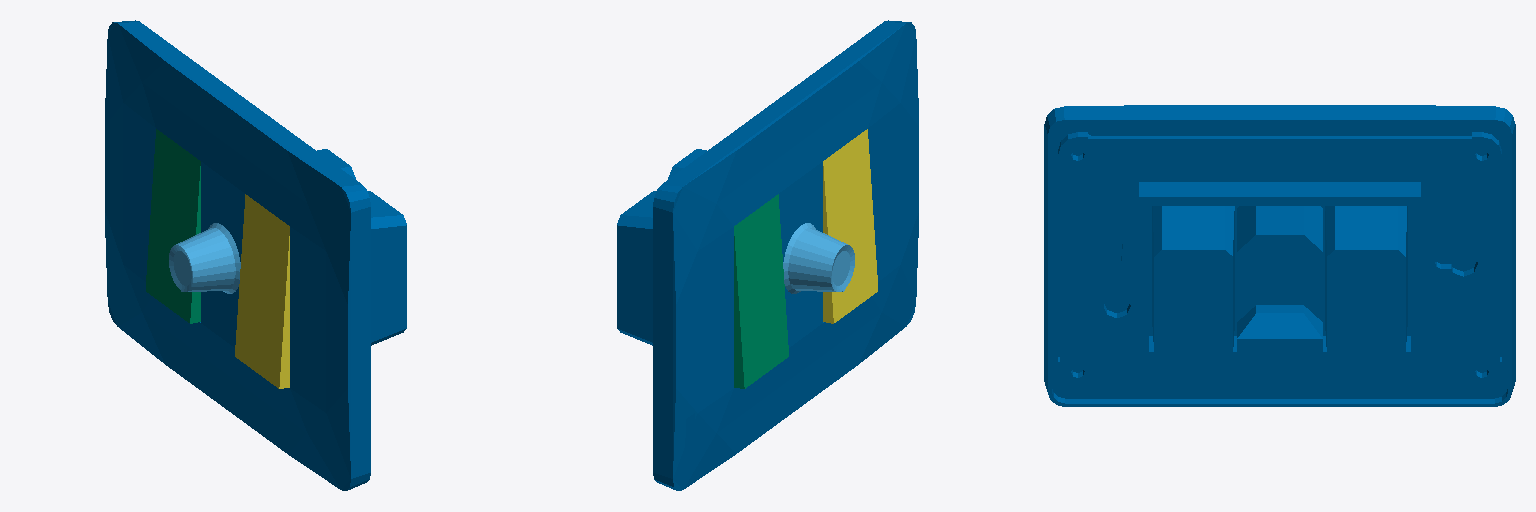
robot.urdf — partnet_05449c4f-8af8-4fe5-bcd9-423bf1e982b6:
<?xml version="1.0" ?>
<robot name="partnet_05449c4f-8af8-4fe5-bcd9-423bf1e982b6">
	<link name="base"/>
	<link name="link_0">
		<visual name="switch-1">
			<origin xyz="0 0 0"/>
			<geometry>
				<mesh filename="textured_objs/original-30.obj"/>
			</geometry>
		</visual>
		<collision>
			<origin xyz="0 0 0"/>
			<geometry>
				<mesh filename="textured_objs/original-30.obj"/>
			</geometry>
		</collision>
	</link>
	<joint name="joint_0" type="continuous">
		<origin xyz="0 0 0"/>
		<axis xyz="0 0 1"/>
		<child link="link_0"/>
		<parent link="link_3"/>
	</joint>
	<link name="link_1">
		<visual name="switch-2">
			<origin xyz="0.46418500000000007 0.005099191978710449 -0.14107846118917522"/>
			<geometry>
				<mesh filename="textured_objs/original-35.obj"/>
			</geometry>
		</visual>
		<visual name="switch-2">
			<origin xyz="0.46418500000000007 0.005099191978710449 -0.14107846118917522"/>
			<geometry>
				<mesh filename="textured_objs/original-41.obj"/>
			</geometry>
		</visual>
		<visual name="switch-2">
			<origin xyz="0.46418500000000007 0.005099191978710449 -0.14107846118917522"/>
			<geometry>
				<mesh filename="textured_objs/original-36.obj"/>
			</geometry>
		</visual>
		<visual name="switch-2">
			<origin xyz="0.46418500000000007 0.005099191978710449 -0.14107846118917522"/>
			<geometry>
				<mesh filename="textured_objs/original-38.obj"/>
			</geometry>
		</visual>
		<collision>
			<origin xyz="0.46418500000000007 0.005099191978710449 -0.14107846118917522"/>
			<geometry>
				<mesh filename="textured_objs/original-35.obj"/>
			</geometry>
		</collision>
		<collision>
			<origin xyz="0.46418500000000007 0.005099191978710449 -0.14107846118917522"/>
			<geometry>
				<mesh filename="textured_objs/original-41.obj"/>
			</geometry>
		</collision>
		<collision>
			<origin xyz="0.46418500000000007 0.005099191978710449 -0.14107846118917522"/>
			<geometry>
				<mesh filename="textured_objs/original-36.obj"/>
			</geometry>
		</collision>
		<collision>
			<origin xyz="0.46418500000000007 0.005099191978710449 -0.14107846118917522"/>
			<geometry>
				<mesh filename="textured_objs/original-38.obj"/>
			</geometry>
		</collision>
	</link>
	<joint name="joint_1" type="revolute">
		<origin xyz="-0.46418500000000007 -0.005099191978710449 0.14107846118917522"/>
		<axis xyz="1 0 0"/>
		<child link="link_1"/>
		<parent link="link_3"/>
		<limit lower="0.0" upper="0.16964600329384885"/>
	</joint>
	<link name="link_2">
		<visual name="switch-3">
			<origin xyz="0.46418500000000007 0.005099191978710449 -0.14107846118917522"/>
			<geometry>
				<mesh filename="textured_objs/original-19.obj"/>
			</geometry>
		</visual>
		<visual name="switch-3">
			<origin xyz="0.46418500000000007 0.005099191978710449 -0.14107846118917522"/>
			<geometry>
				<mesh filename="textured_objs/original-28.obj"/>
			</geometry>
		</visual>
		<visual name="switch-3">
			<origin xyz="0.46418500000000007 0.005099191978710449 -0.14107846118917522"/>
			<geometry>
				<mesh filename="textured_objs/original-25.obj"/>
			</geometry>
		</visual>
		<visual name="switch-3">
			<origin xyz="0.46418500000000007 0.005099191978710449 -0.14107846118917522"/>
			<geometry>
				<mesh filename="textured_objs/original-22.obj"/>
			</geometry>
		</visual>
		<visual name="switch-3">
			<origin xyz="0.46418500000000007 0.005099191978710449 -0.14107846118917522"/>
			<geometry>
				<mesh filename="textured_objs/original-23.obj"/>
			</geometry>
		</visual>
		<visual name="switch-3">
			<origin xyz="0.46418500000000007 0.005099191978710449 -0.14107846118917522"/>
			<geometry>
				<mesh filename="textured_objs/original-24.obj"/>
			</geometry>
		</visual>
		<visual name="switch-3">
			<origin xyz="0.46418500000000007 0.005099191978710449 -0.14107846118917522"/>
			<geometry>
				<mesh filename="textured_objs/original-26.obj"/>
			</geometry>
		</visual>
		<visual name="switch-3">
			<origin xyz="0.46418500000000007 0.005099191978710449 -0.14107846118917522"/>
			<geometry>
				<mesh filename="textured_objs/original-27.obj"/>
			</geometry>
		</visual>
		<collision>
			<origin xyz="0.46418500000000007 0.005099191978710449 -0.14107846118917522"/>
			<geometry>
				<mesh filename="textured_objs/original-19.obj"/>
			</geometry>
		</collision>
		<collision>
			<origin xyz="0.46418500000000007 0.005099191978710449 -0.14107846118917522"/>
			<geometry>
				<mesh filename="textured_objs/original-28.obj"/>
			</geometry>
		</collision>
		<collision>
			<origin xyz="0.46418500000000007 0.005099191978710449 -0.14107846118917522"/>
			<geometry>
				<mesh filename="textured_objs/original-25.obj"/>
			</geometry>
		</collision>
		<collision>
			<origin xyz="0.46418500000000007 0.005099191978710449 -0.14107846118917522"/>
			<geometry>
				<mesh filename="textured_objs/original-22.obj"/>
			</geometry>
		</collision>
		<collision>
			<origin xyz="0.46418500000000007 0.005099191978710449 -0.14107846118917522"/>
			<geometry>
				<mesh filename="textured_objs/original-23.obj"/>
			</geometry>
		</collision>
		<collision>
			<origin xyz="0.46418500000000007 0.005099191978710449 -0.14107846118917522"/>
			<geometry>
				<mesh filename="textured_objs/original-24.obj"/>
			</geometry>
		</collision>
		<collision>
			<origin xyz="0.46418500000000007 0.005099191978710449 -0.14107846118917522"/>
			<geometry>
				<mesh filename="textured_objs/original-26.obj"/>
			</geometry>
		</collision>
		<collision>
			<origin xyz="0.46418500000000007 0.005099191978710449 -0.14107846118917522"/>
			<geometry>
				<mesh filename="textured_objs/original-27.obj"/>
			</geometry>
		</collision>
	</link>
	<joint name="joint_2" type="revolute">
		<origin xyz="-0.46418500000000007 -0.005099191978710449 0.14107846118917522"/>
		<axis xyz="1 0 0"/>
		<child link="link_2"/>
		<parent link="link_3"/>
		<limit lower="0.0" upper="0.16964600329384885"/>
	</joint>
	<link name="link_3">
		<visual name="base_body-4">
			<origin xyz="0 0 0"/>
			<geometry>
				<mesh filename="textured_objs/original-21.obj"/>
			</geometry>
		</visual>
		<visual name="base_body-4">
			<origin xyz="0 0 0"/>
			<geometry>
				<mesh filename="textured_objs/original-4.obj"/>
			</geometry>
		</visual>
		<visual name="base_body-4">
			<origin xyz="0 0 0"/>
			<geometry>
				<mesh filename="textured_objs/original-3.obj"/>
			</geometry>
		</visual>
		<visual name="base_body-4">
			<origin xyz="0 0 0"/>
			<geometry>
				<mesh filename="textured_objs/original-33.obj"/>
			</geometry>
		</visual>
		<visual name="base_body-4">
			<origin xyz="0 0 0"/>
			<geometry>
				<mesh filename="textured_objs/original-2.obj"/>
			</geometry>
		</visual>
		<visual name="base_body-4">
			<origin xyz="0 0 0"/>
			<geometry>
				<mesh filename="textured_objs/original-16.obj"/>
			</geometry>
		</visual>
		<visual name="base_body-4">
			<origin xyz="0 0 0"/>
			<geometry>
				<mesh filename="textured_objs/original-8.obj"/>
			</geometry>
		</visual>
		<visual name="base_body-4">
			<origin xyz="0 0 0"/>
			<geometry>
				<mesh filename="textured_objs/original-13.obj"/>
			</geometry>
		</visual>
		<visual name="base_body-4">
			<origin xyz="0 0 0"/>
			<geometry>
				<mesh filename="textured_objs/original-9.obj"/>
			</geometry>
		</visual>
		<visual name="base_body-4">
			<origin xyz="0 0 0"/>
			<geometry>
				<mesh filename="textured_objs/original-39.obj"/>
			</geometry>
		</visual>
		<visual name="base_body-4">
			<origin xyz="0 0 0"/>
			<geometry>
				<mesh filename="textured_objs/original-6.obj"/>
			</geometry>
		</visual>
		<visual name="base_body-4">
			<origin xyz="0 0 0"/>
			<geometry>
				<mesh filename="textured_objs/original-31.obj"/>
			</geometry>
		</visual>
		<visual name="base_body-4">
			<origin xyz="0 0 0"/>
			<geometry>
				<mesh filename="textured_objs/original-37.obj"/>
			</geometry>
		</visual>
		<visual name="base_body-4">
			<origin xyz="0 0 0"/>
			<geometry>
				<mesh filename="textured_objs/original-15.obj"/>
			</geometry>
		</visual>
		<visual name="base_body-4">
			<origin xyz="0 0 0"/>
			<geometry>
				<mesh filename="textured_objs/original-11.obj"/>
			</geometry>
		</visual>
		<visual name="base_body-4">
			<origin xyz="0 0 0"/>
			<geometry>
				<mesh filename="textured_objs/original-18.obj"/>
			</geometry>
		</visual>
		<visual name="base_body-4">
			<origin xyz="0 0 0"/>
			<geometry>
				<mesh filename="textured_objs/original-12.obj"/>
			</geometry>
		</visual>
		<visual name="base_body-4">
			<origin xyz="0 0 0"/>
			<geometry>
				<mesh filename="textured_objs/original-20.obj"/>
			</geometry>
		</visual>
		<visual name="base_body-4">
			<origin xyz="0 0 0"/>
			<geometry>
				<mesh filename="textured_objs/original-32.obj"/>
			</geometry>
		</visual>
		<visual name="base_body-4">
			<origin xyz="0 0 0"/>
			<geometry>
				<mesh filename="textured_objs/original-7.obj"/>
			</geometry>
		</visual>
		<visual name="base_body-4">
			<origin xyz="0 0 0"/>
			<geometry>
				<mesh filename="textured_objs/original-10.obj"/>
			</geometry>
		</visual>
		<visual name="base_body-4">
			<origin xyz="0 0 0"/>
			<geometry>
				<mesh filename="textured_objs/original-14.obj"/>
			</geometry>
		</visual>
		<visual name="base_body-4">
			<origin xyz="0 0 0"/>
			<geometry>
				<mesh filename="textured_objs/original-40.obj"/>
			</geometry>
		</visual>
		<collision>
			<origin xyz="0 0 0"/>
			<geometry>
				<mesh filename="textured_objs/original-21.obj"/>
			</geometry>
		</collision>
		<collision>
			<origin xyz="0 0 0"/>
			<geometry>
				<mesh filename="textured_objs/original-4.obj"/>
			</geometry>
		</collision>
		<collision>
			<origin xyz="0 0 0"/>
			<geometry>
				<mesh filename="textured_objs/original-3.obj"/>
			</geometry>
		</collision>
		<collision>
			<origin xyz="0 0 0"/>
			<geometry>
				<mesh filename="textured_objs/original-33.obj"/>
			</geometry>
		</collision>
		<collision>
			<origin xyz="0 0 0"/>
			<geometry>
				<mesh filename="textured_objs/original-2.obj"/>
			</geometry>
		</collision>
		<collision>
			<origin xyz="0 0 0"/>
			<geometry>
				<mesh filename="textured_objs/original-16.obj"/>
			</geometry>
		</collision>
		<collision>
			<origin xyz="0 0 0"/>
			<geometry>
				<mesh filename="textured_objs/original-8.obj"/>
			</geometry>
		</collision>
		<collision>
			<origin xyz="0 0 0"/>
			<geometry>
				<mesh filename="textured_objs/original-13.obj"/>
			</geometry>
		</collision>
		<collision>
			<origin xyz="0 0 0"/>
			<geometry>
				<mesh filename="textured_objs/original-9.obj"/>
			</geometry>
		</collision>
		<collision>
			<origin xyz="0 0 0"/>
			<geometry>
				<mesh filename="textured_objs/original-39.obj"/>
			</geometry>
		</collision>
		<collision>
			<origin xyz="0 0 0"/>
			<geometry>
				<mesh filename="textured_objs/original-6.obj"/>
			</geometry>
		</collision>
		<collision>
			<origin xyz="0 0 0"/>
			<geometry>
				<mesh filename="textured_objs/original-31.obj"/>
			</geometry>
		</collision>
		<collision>
			<origin xyz="0 0 0"/>
			<geometry>
				<mesh filename="textured_objs/original-37.obj"/>
			</geometry>
		</collision>
		<collision>
			<origin xyz="0 0 0"/>
			<geometry>
				<mesh filename="textured_objs/original-15.obj"/>
			</geometry>
		</collision>
		<collision>
			<origin xyz="0 0 0"/>
			<geometry>
				<mesh filename="textured_objs/original-11.obj"/>
			</geometry>
		</collision>
		<collision>
			<origin xyz="0 0 0"/>
			<geometry>
				<mesh filename="textured_objs/original-18.obj"/>
			</geometry>
		</collision>
		<collision>
			<origin xyz="0 0 0"/>
			<geometry>
				<mesh filename="textured_objs/original-12.obj"/>
			</geometry>
		</collision>
		<collision>
			<origin xyz="0 0 0"/>
			<geometry>
				<mesh filename="textured_objs/original-20.obj"/>
			</geometry>
		</collision>
		<collision>
			<origin xyz="0 0 0"/>
			<geometry>
				<mesh filename="textured_objs/original-32.obj"/>
			</geometry>
		</collision>
		<collision>
			<origin xyz="0 0 0"/>
			<geometry>
				<mesh filename="textured_objs/original-7.obj"/>
			</geometry>
		</collision>
		<collision>
			<origin xyz="0 0 0"/>
			<geometry>
				<mesh filename="textured_objs/original-10.obj"/>
			</geometry>
		</collision>
		<collision>
			<origin xyz="0 0 0"/>
			<geometry>
				<mesh filename="textured_objs/original-14.obj"/>
			</geometry>
		</collision>
		<collision>
			<origin xyz="0 0 0"/>
			<geometry>
				<mesh filename="textured_objs/original-40.obj"/>
			</geometry>
		</collision>
	</link>
	<joint name="joint_3" type="fixed">
		<origin rpy="1.570796326794897 0 -1.570796326794897" xyz="0 0 0"/>
		<child link="link_3"/>
		<parent link="base"/>
	</joint>
</robot>

--- Facts derived from the render (not from the file) ---
Views: 3 orthographic renders of the robot side by side, from view 1: azimuth 30°, elevation 25°; view 2: azimuth 150°, elevation 25°; view 3: azimuth 270°, elevation 25°.
Robot: partnet_05449c4f-8af8-4fe5-bcd9-423bf1e982b6 — 5 links, 4 joints (2 revolute, 1 continuous, 1 fixed); root link base; default pose: all joints at 0.
Links seen in each view (by area): view 1: link_3, link_2, link_1, link_0; view 2: link_3, link_1, link_2, link_0; view 3: link_3.
Link boxes in pixels (x1,y1,x2,y2): link_3: [105, 20, 406, 490]; link_2: [235, 194, 289, 388]; link_1: [146, 129, 200, 323]; link_0: [169, 223, 240, 293]; link_3: [617, 20, 918, 490]; link_1: [734, 194, 788, 388]; link_2: [823, 129, 877, 323]; link_0: [783, 223, 854, 293]; link_3: [1044, 105, 1515, 406].
Bounding box of the posed robot: 0.7816 × 1.7 × 1.17 m (x, y, z).
Meshes: 36 distinct files referenced, 36 mesh visuals loaded (36 OBJ).
